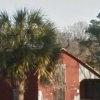Tree: (3, 4, 60, 91)
